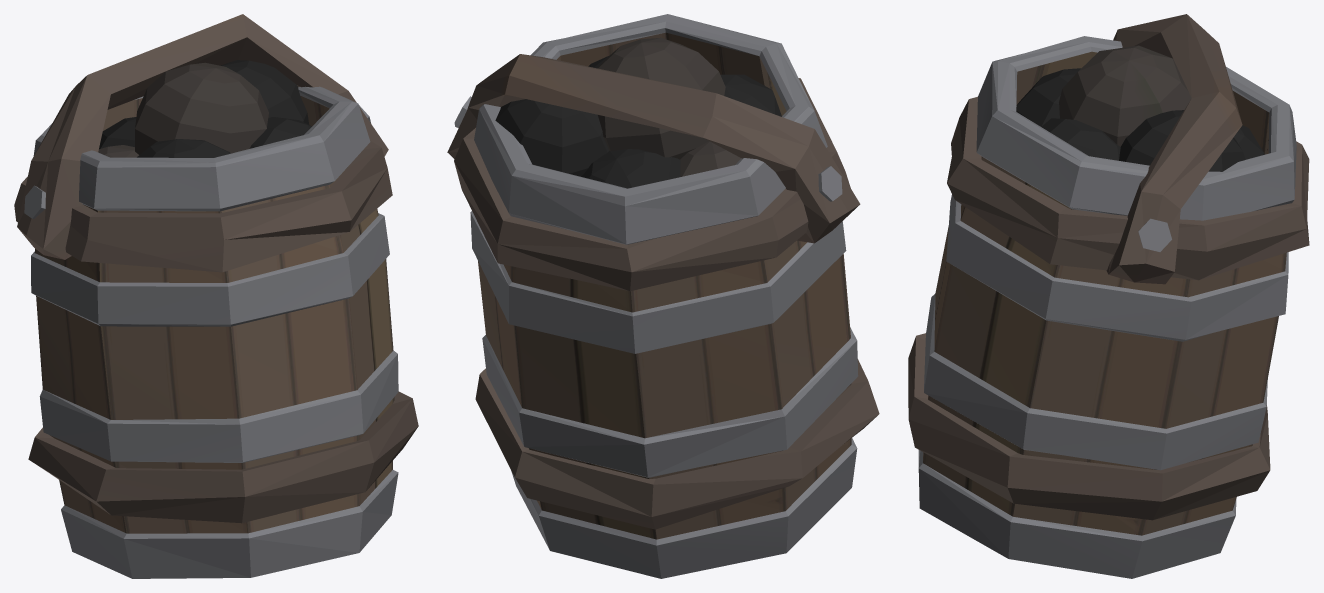
The model's file is backpackCanonBallBarrell.fbx.
3 views of the same model, side by side, from view 1: azimuth 30°, elevation 25°; view 2: azimuth 150°, elevation 25°; view 3: azimuth 270°, elevation 25° (orthographic). The views are drawn at different scales.
Parts seen in each view (by area): view 1: backpackCanonBallBarrell; view 2: backpackCanonBallBarrell; view 3: backpackCanonBallBarrell.
Boxes of the visible parts, box(x1,y1,x2,y2) form: backpackCanonBallBarrell: box(14, 14, 418, 578); backpackCanonBallBarrell: box(447, 14, 879, 578); backpackCanonBallBarrell: box(908, 14, 1309, 578).
Bounding box in the file's own units: 1.17 × 1.45 × 1.11.
